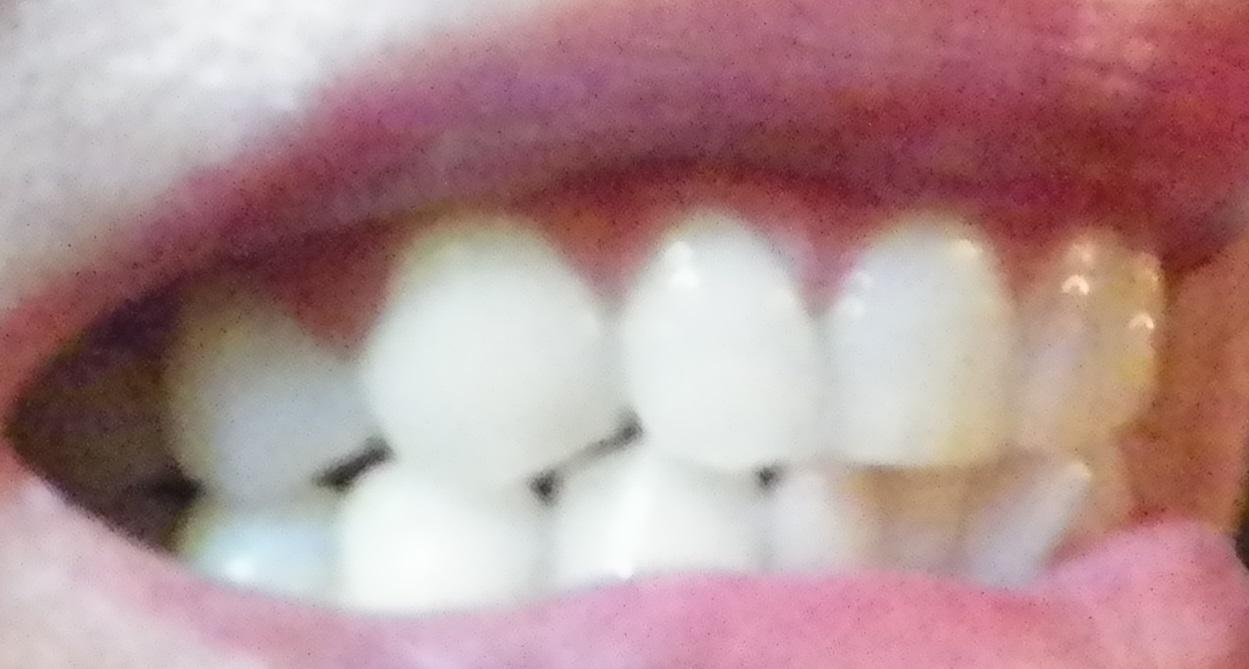boca: (158, 219, 1182, 605)
